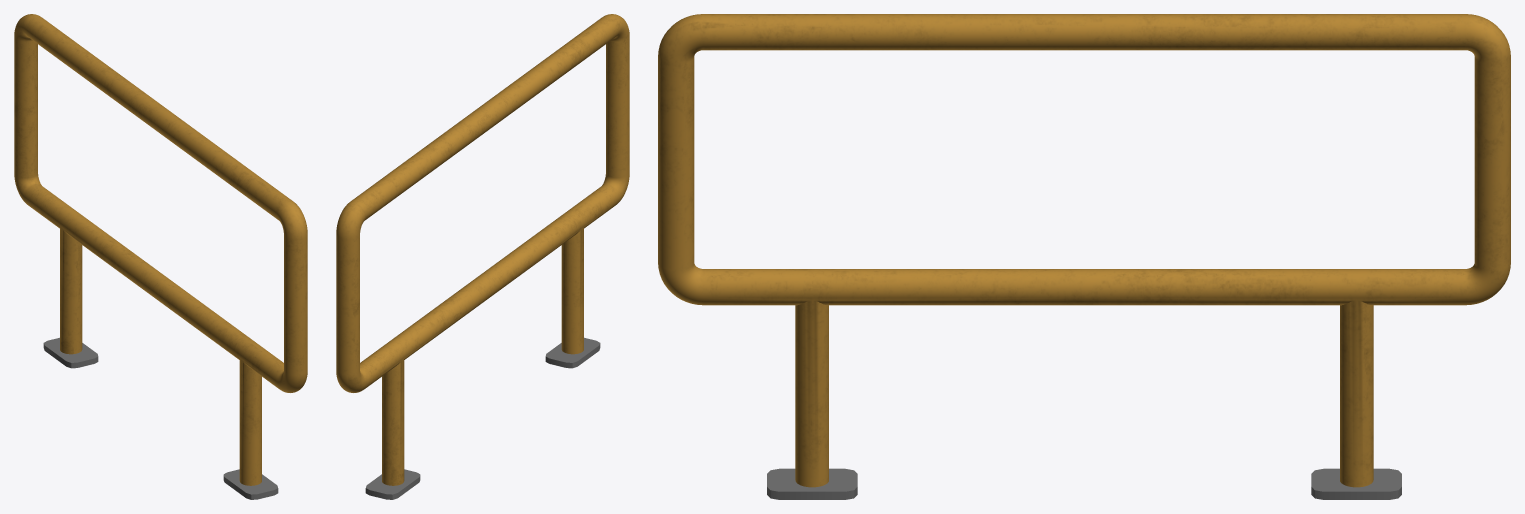
Rendered from railings_1.fbx.
3 views of the same model, side by side, from view 1: azimuth 30°, elevation 25°; view 2: azimuth 150°, elevation 25°; view 3: azimuth 270°, elevation 25° (orthographic). The views are drawn at different scales.
Parts seen in each view (by area): view 1: bake; view 2: bake; view 3: bake.
Part boxes in pixels (left/top/right/bottom): bake: left=14, top=14, right=307, bottom=499; bake: left=336, top=14, right=629, bottom=499; bake: left=658, top=14, right=1510, bottom=499.
Size of the model in its own units: 120 by 1150 by 1880.
1 material, 1 textured.
